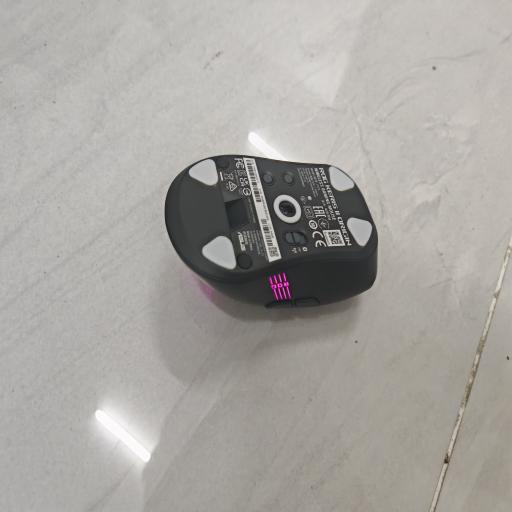mouse: (165, 155, 378, 308)
